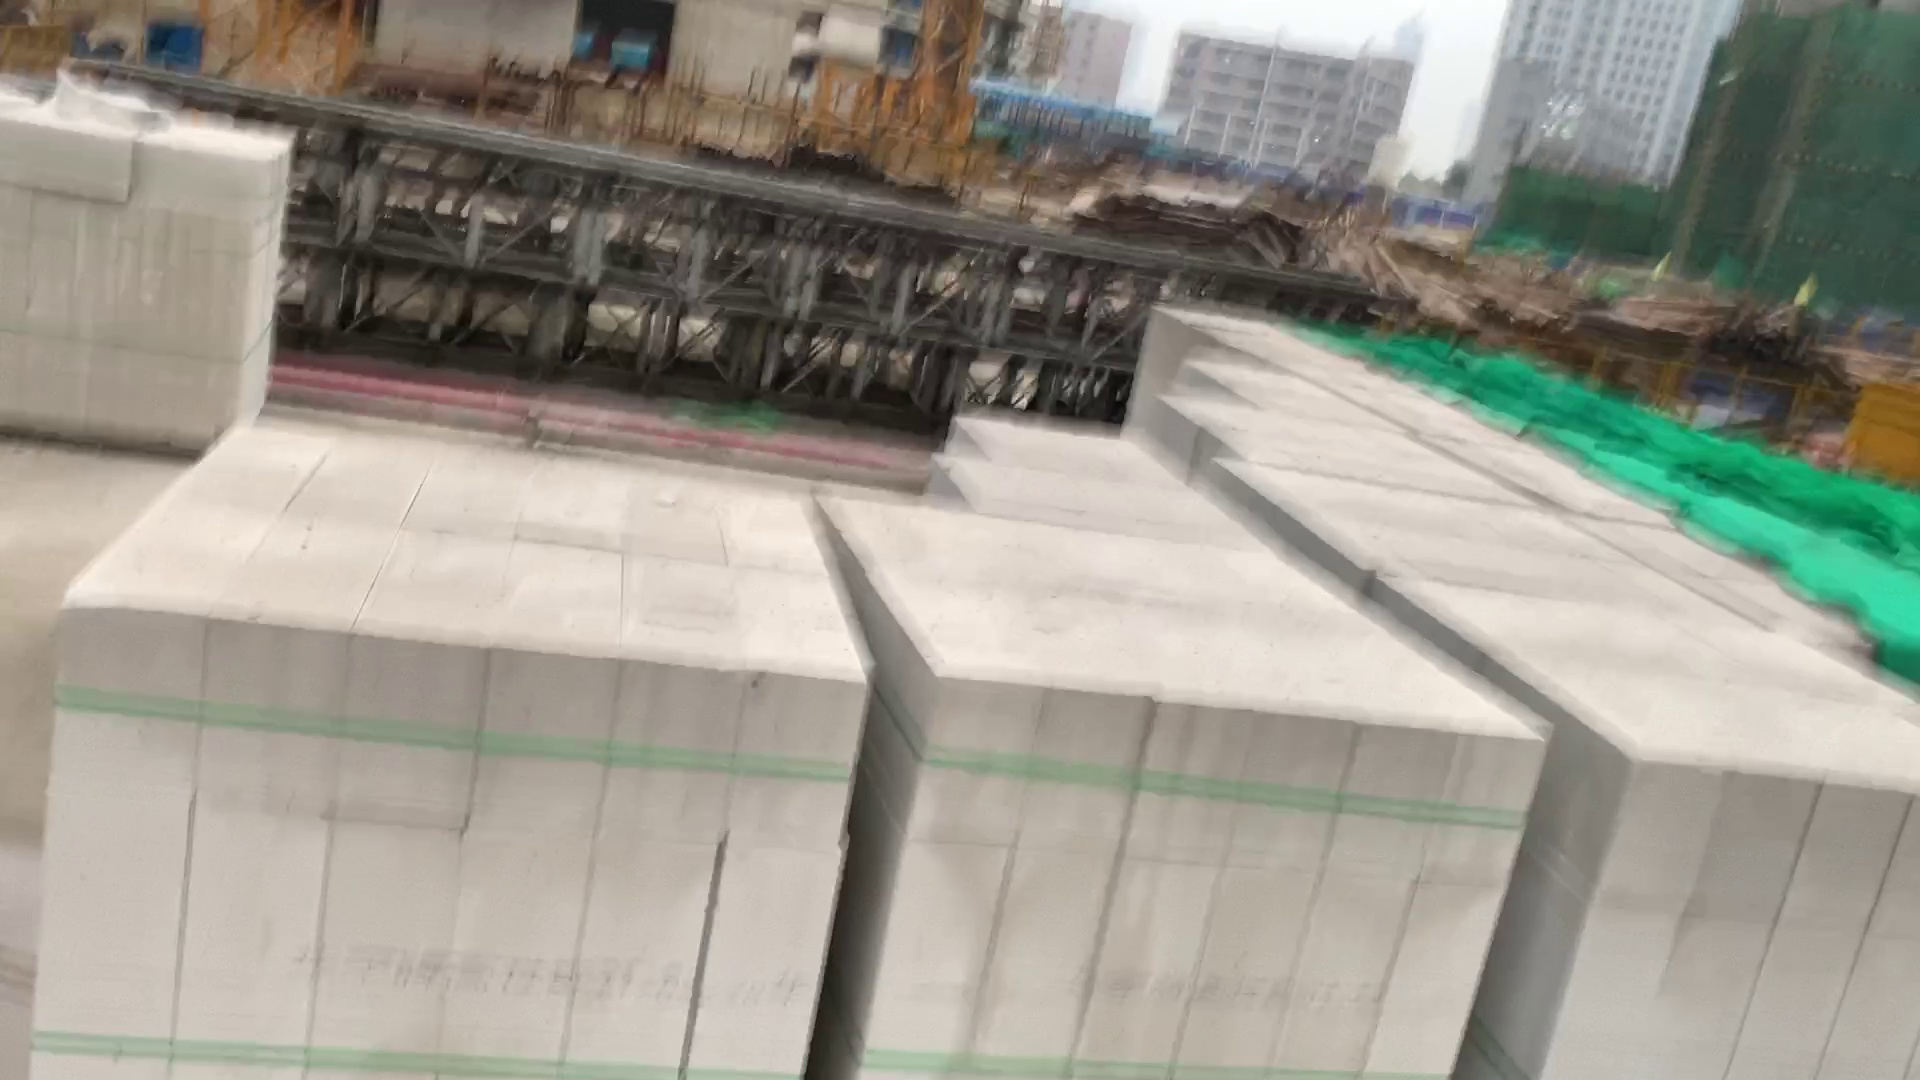brickwork: (79, 423, 865, 1080), (827, 504, 1487, 1080), (1400, 582, 1916, 1080), (4, 96, 251, 433), (1218, 464, 1743, 616), (938, 414, 1250, 539), (1195, 415, 1524, 504), (1180, 365, 1402, 430), (1172, 307, 1342, 364)
